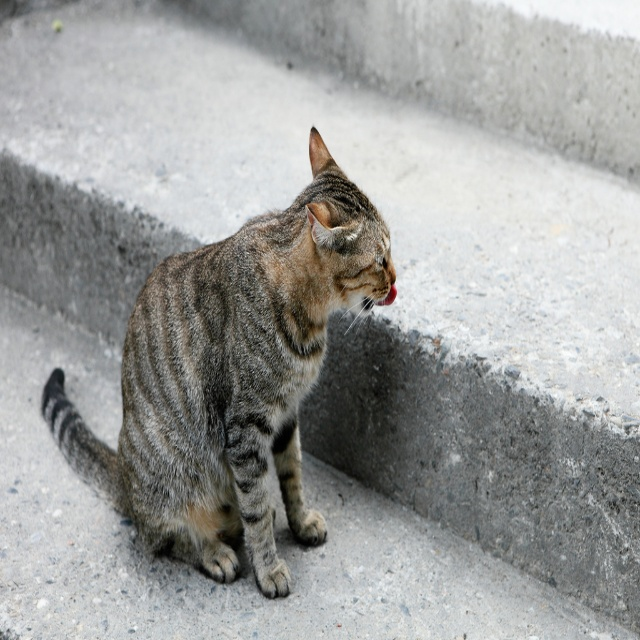Lynx: (39, 122, 397, 604)
